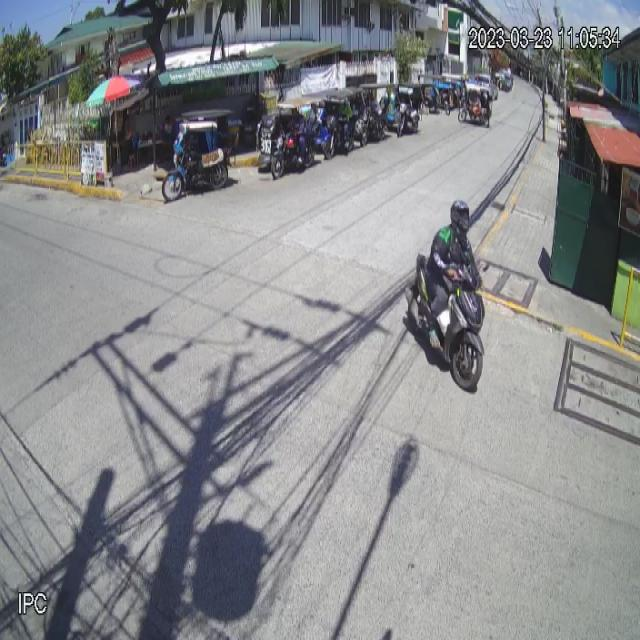Motorcycle: (405, 250, 490, 395)
